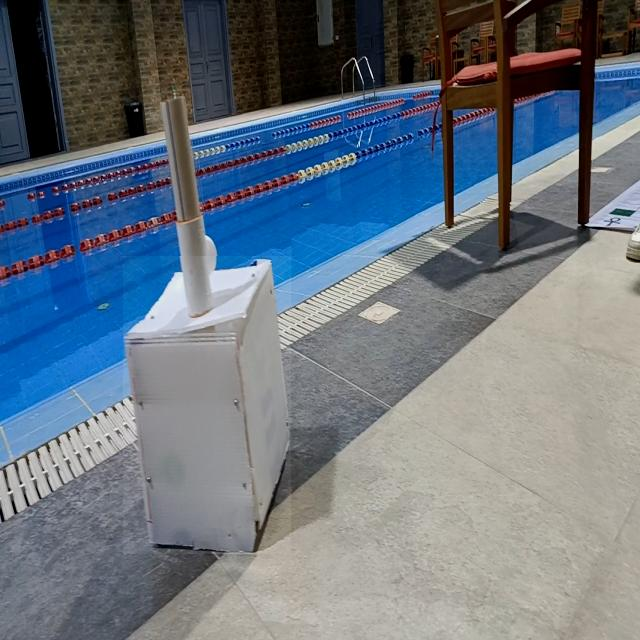Cube: (124, 256, 292, 554)
